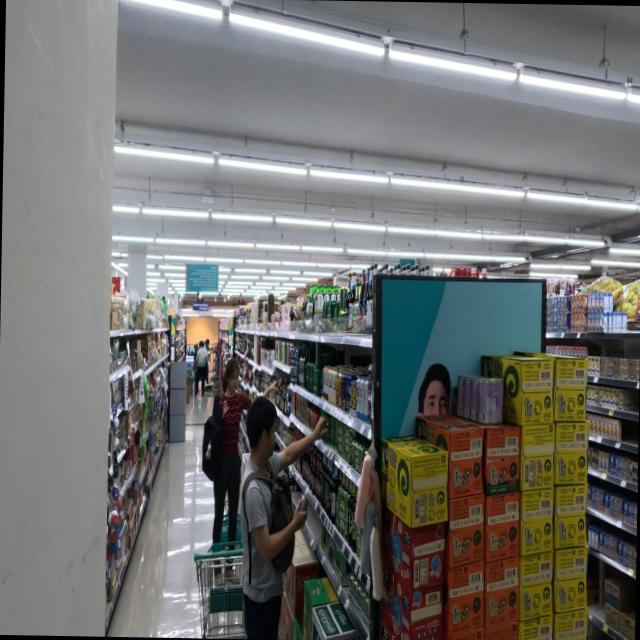shoplifting: (238, 401, 314, 640)
